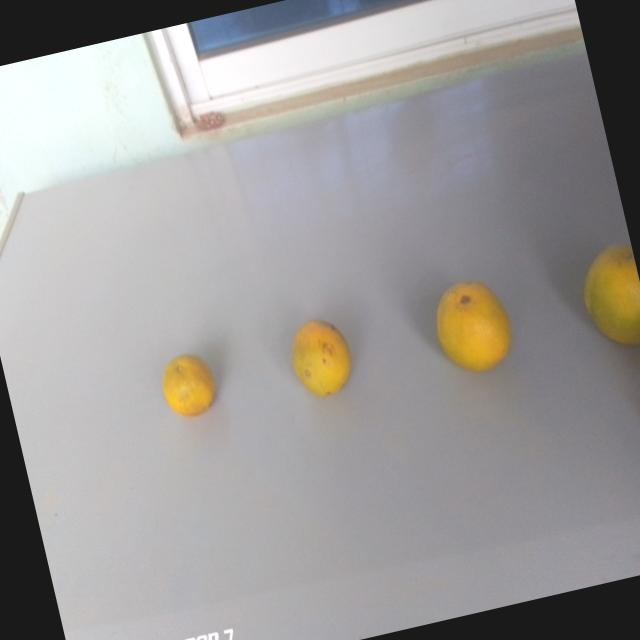agrume: (407, 258, 532, 398), (274, 300, 374, 420), (564, 243, 640, 368), (147, 335, 231, 434)
